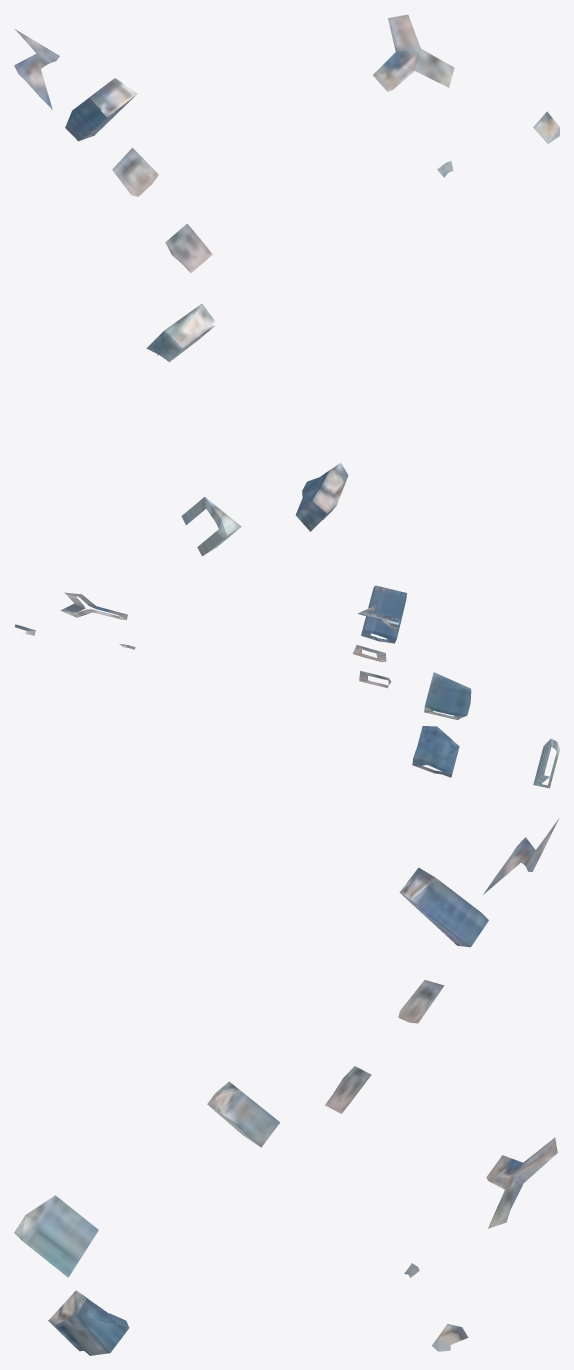
File: AJVsH2xrEGePQp4AQ7UT_Ac7T5cEjbXGTf6eHEPX18twfv7Gp9oZlhPLsKioJDkwE_G2adiiT595qpHZD7a4An7J_8ek0OQdUi9Q3sOyVKOOgwmaw2S4HKBjpVtImAR7CYfQT_j2AHDSQOxa_Z45tRRGMG4apgo1wA.glb
3 renders of one model, top to bottom at view 1: azimuth 30°, elevation 25°; view 2: azimuth 150°, elevation 25°; view 3: azimuth 270°, elevation 25°, orthographic. The views are drawn at different scales.
Size of the model in its own units: 423 by 296 by 309.
1 material, 1 textured.
